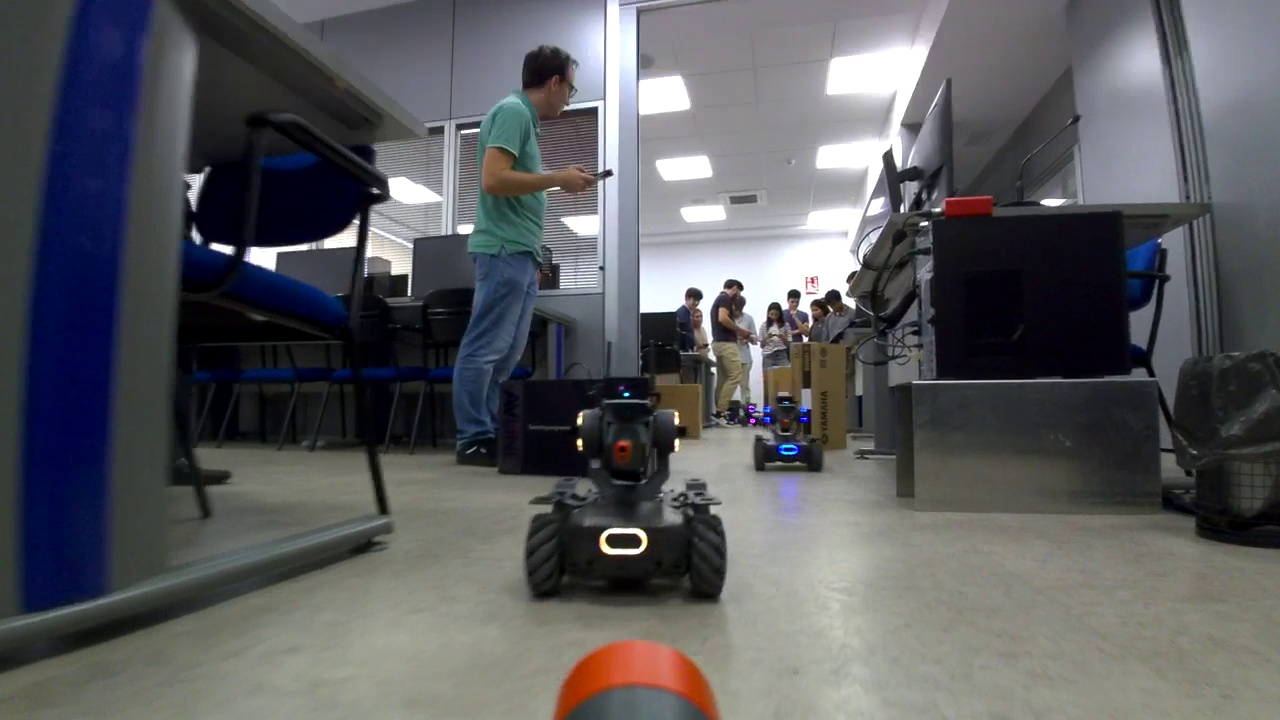robot: (532, 403, 719, 604), (755, 398, 822, 465), (742, 403, 760, 426)
